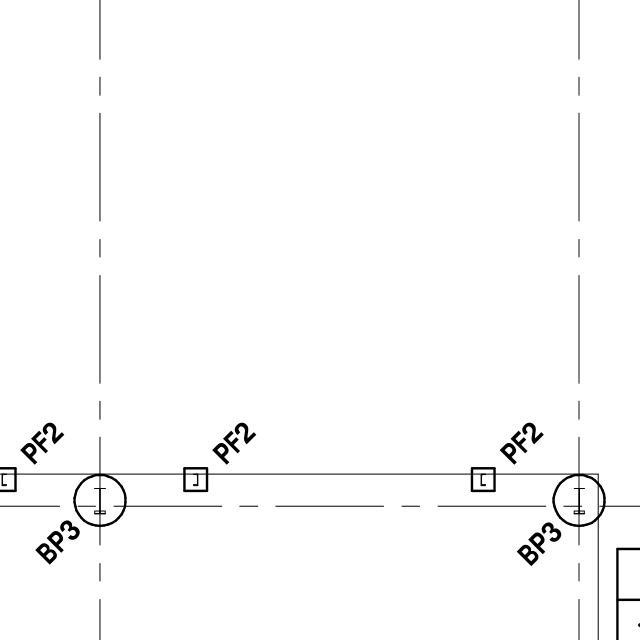BP3: (23, 519, 80, 570), (521, 501, 562, 570)
PF2: (207, 413, 268, 472), (488, 421, 546, 470), (13, 415, 70, 460)
